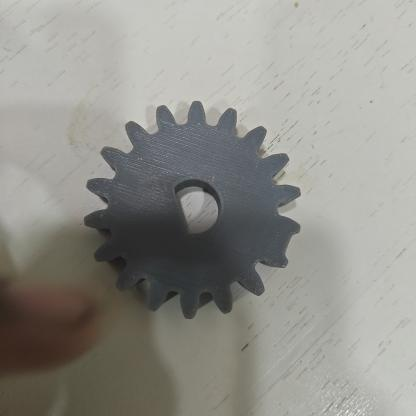defect: (146, 175, 206, 256), (250, 214, 305, 286)
gear: (84, 101, 300, 319)
